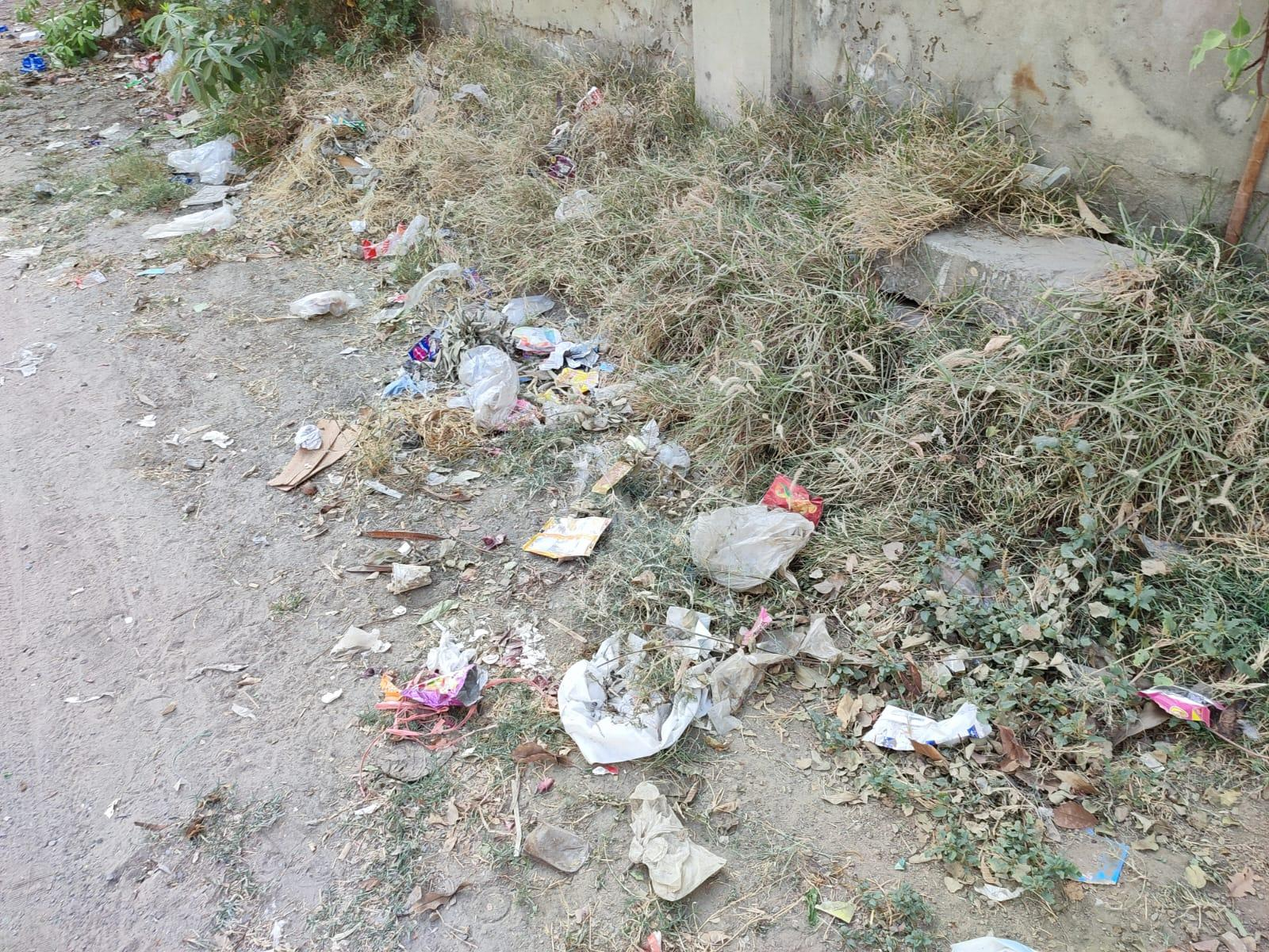garbage: (291, 222, 1021, 802)
